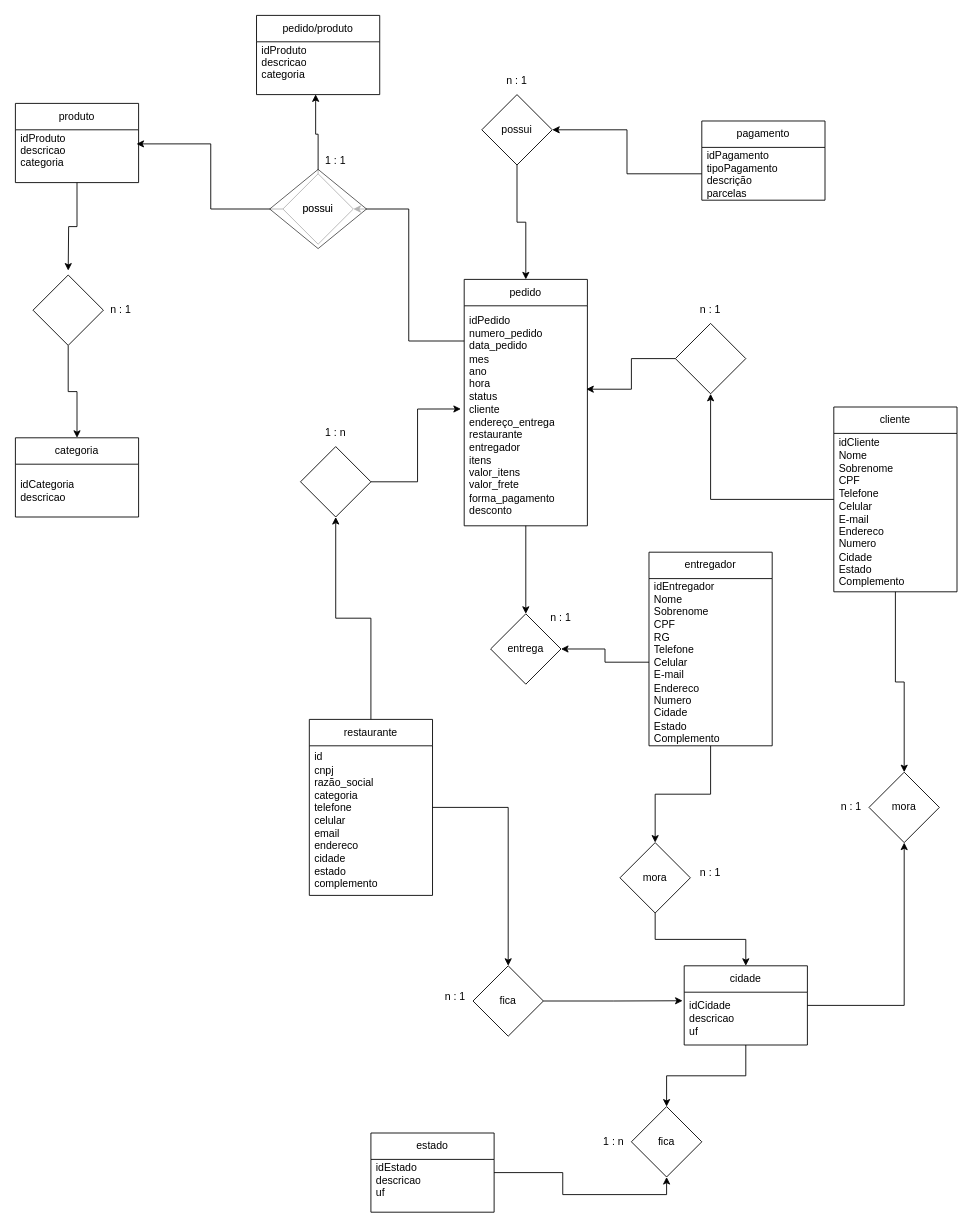
The diagram is 972 pixels wide and 1228 high, and some of its shapes have lost their labels. The centre of each missing label's shape, as x and y in pixels:
pertence: point (67, 309)
realiza: point (710, 358)
recebe: point (335, 481)
